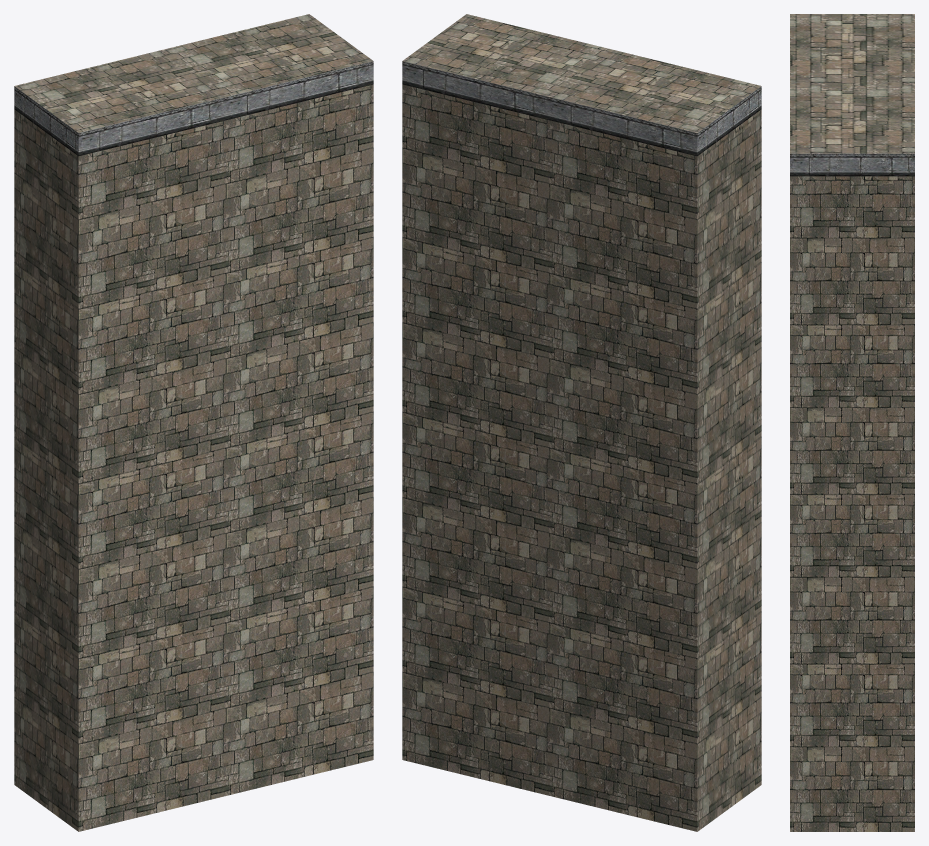
Rendered from S_dcr2.glb.
The picture shows the model from 3 angles, left to right: view 1: azimuth 30°, elevation 25°; view 2: azimuth 150°, elevation 25°; view 3: azimuth 270°, elevation 25°; orthographic projection. The views are drawn at different scales.
Parts seen in each view (by area): view 1: S_dcr2; view 2: S_dcr2; view 3: S_dcr2.
Part boxes in pixels (x1,y1,x2,y2): S_dcr2: [14, 14, 373, 831]; S_dcr2: [402, 14, 761, 831]; S_dcr2: [790, 14, 914, 831].
Size of the model in its own units: 5.3 by 12 by 2.
2 materials, 2 textured.
